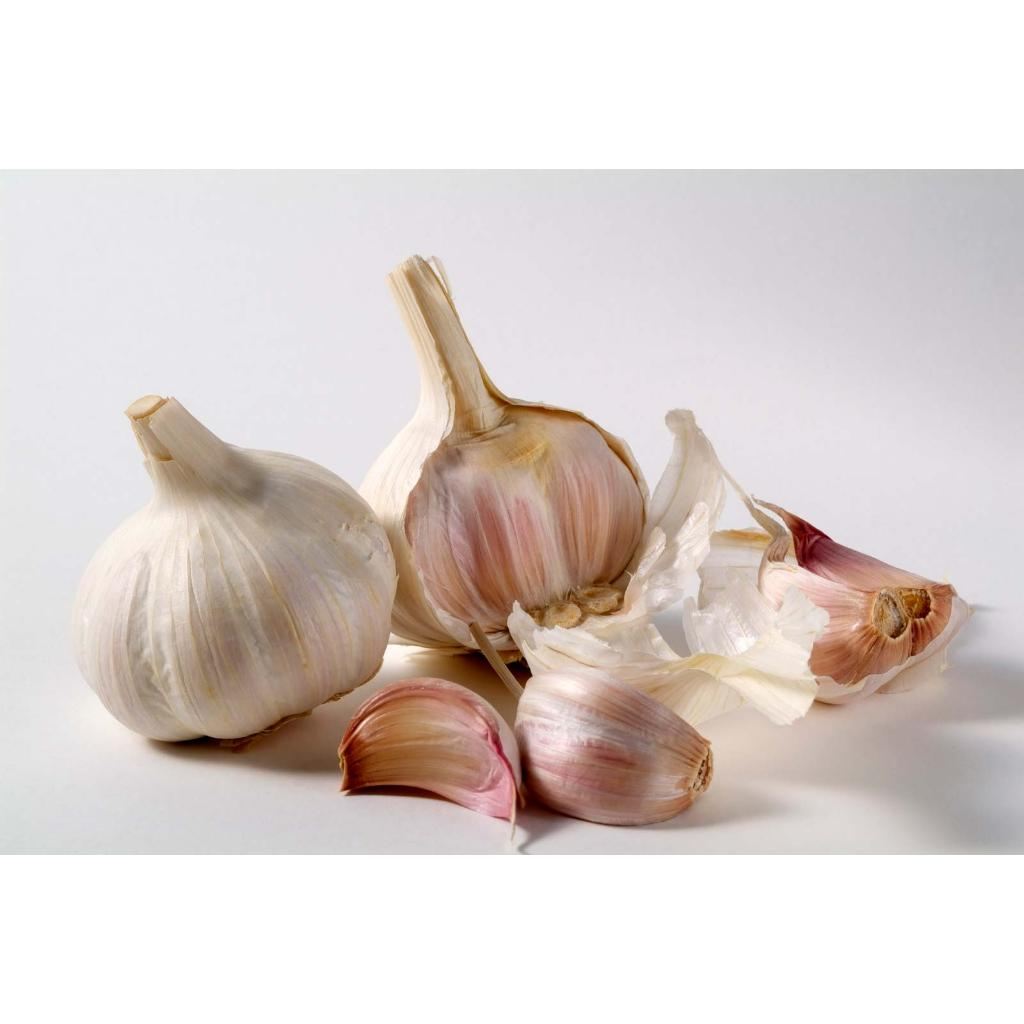garlic: (358, 255, 646, 648), (72, 395, 395, 740), (745, 498, 968, 703), (514, 666, 712, 824), (337, 678, 520, 826)
